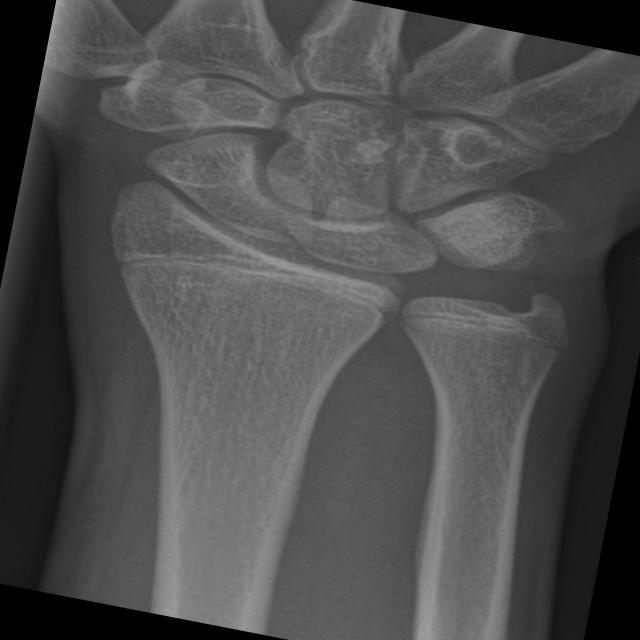fracture: (88, 218, 410, 337), (380, 289, 588, 371)
